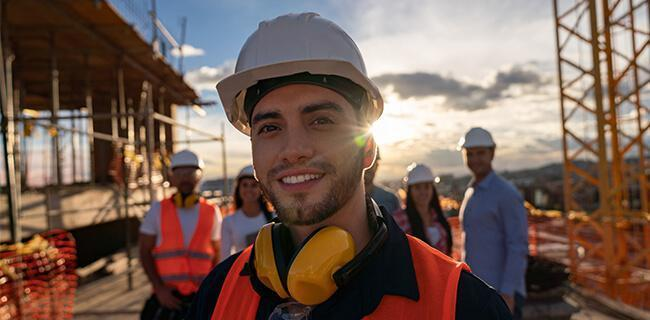helmet: (215, 11, 384, 137)
